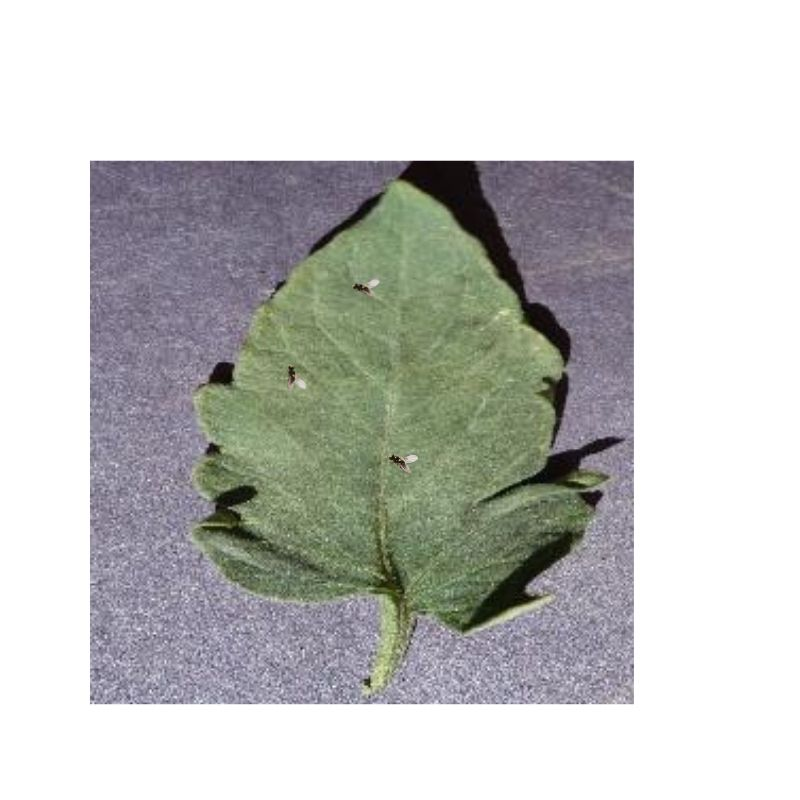liriomyza: (283, 362, 306, 393), (388, 450, 419, 472), (354, 278, 383, 295)
